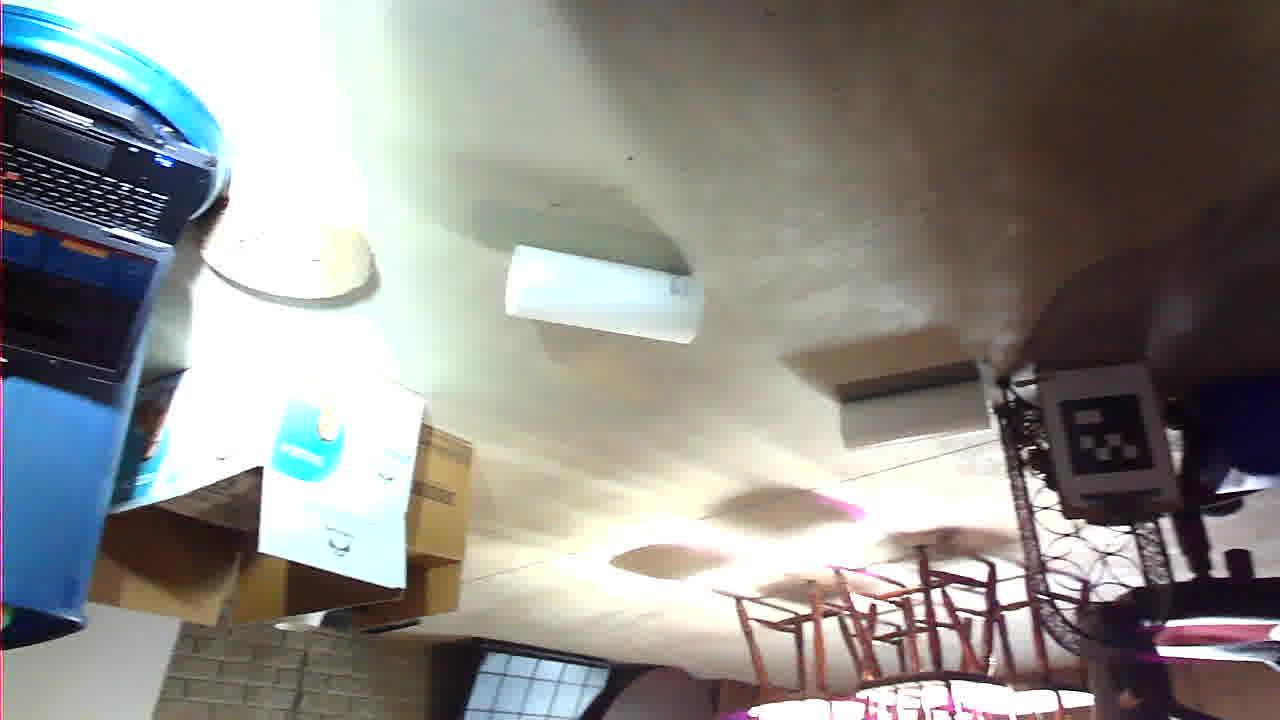coral: (578, 377, 774, 475), (290, 272, 441, 333)
